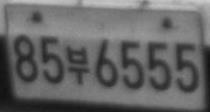5: (120, 40, 145, 90), (39, 36, 64, 84), (147, 41, 171, 91), (175, 42, 199, 92)
6: (95, 37, 118, 87)
8: (12, 34, 38, 83)
부: (65, 45, 91, 84)
